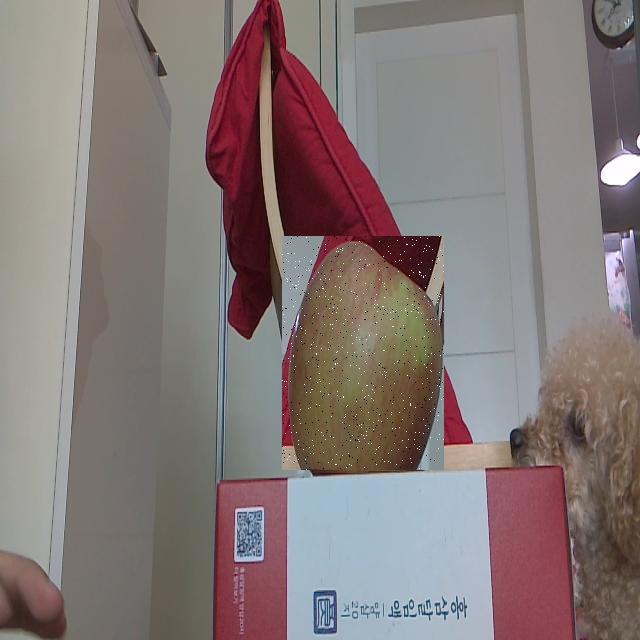apple: (282, 236, 444, 470)
